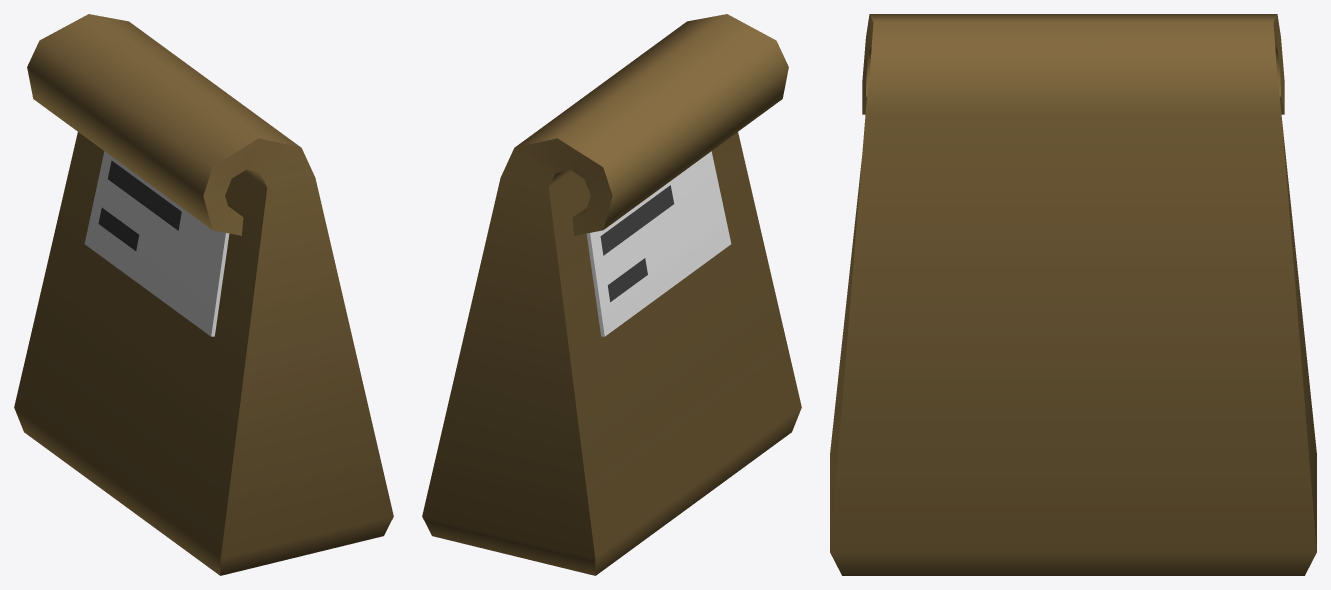
Rendered from BagFood_2_B.fbx.
3 renders of one model, left to right at view 1: azimuth 30°, elevation 25°; view 2: azimuth 150°, elevation 25°; view 3: azimuth 270°, elevation 25°, orthographic. The views are drawn at different scales.
Parts seen in each view (by area): view 1: BagFood_2_B; view 2: BagFood_2_B; view 3: BagFood_2_B.
Part boxes in pixels (x1,y1,x2,y2): BagFood_2_B: (14, 14, 393, 575); BagFood_2_B: (422, 14, 801, 575); BagFood_2_B: (830, 14, 1316, 575).
Size of the model in its own units: 15.18 by 35.13 by 30.98.
